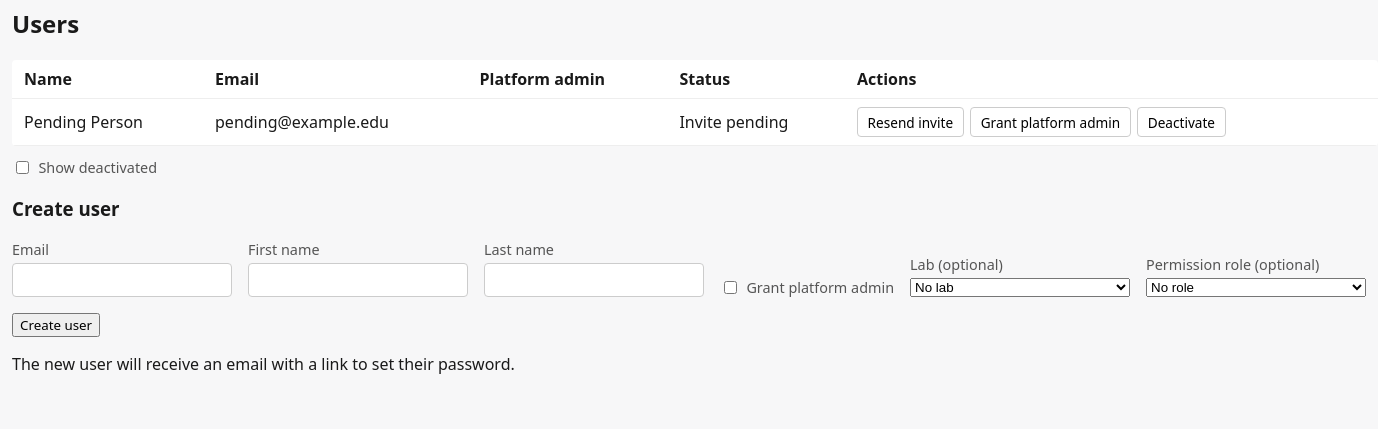
Test: AdminUsers resend invite › shows a notice when a resend fails again
Click the button "Resend invite".
click(910, 122)  # box [857,107,964,137]
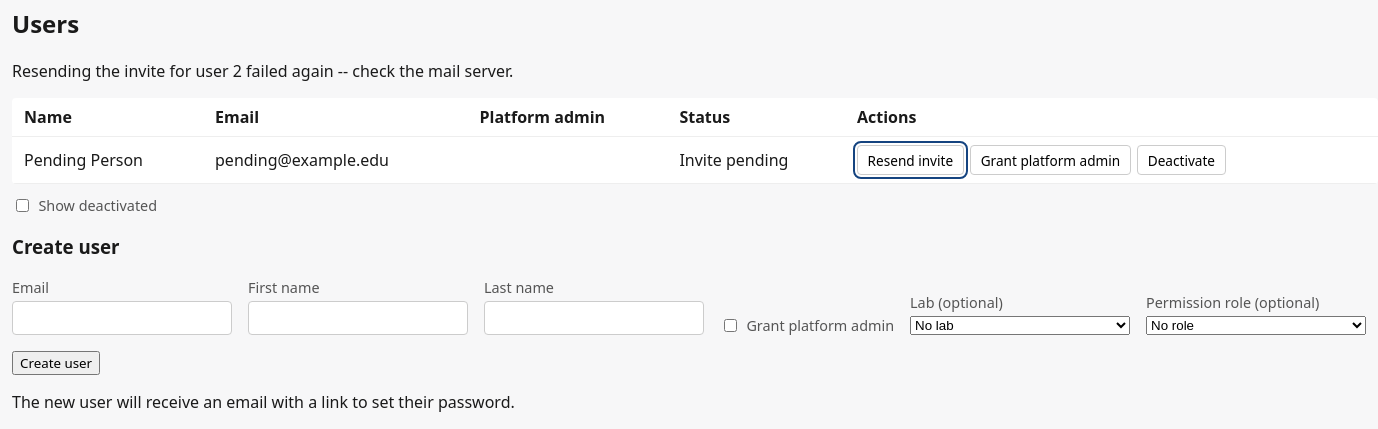
Check: the message shows "failed again", box [12,60,513,82]
